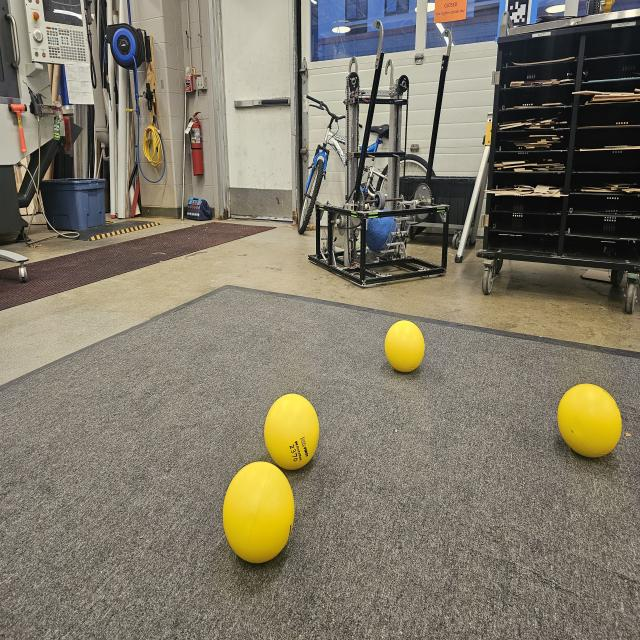Fuel: (223, 462, 294, 566), (557, 384, 621, 458), (265, 395, 320, 469), (386, 320, 424, 373)
